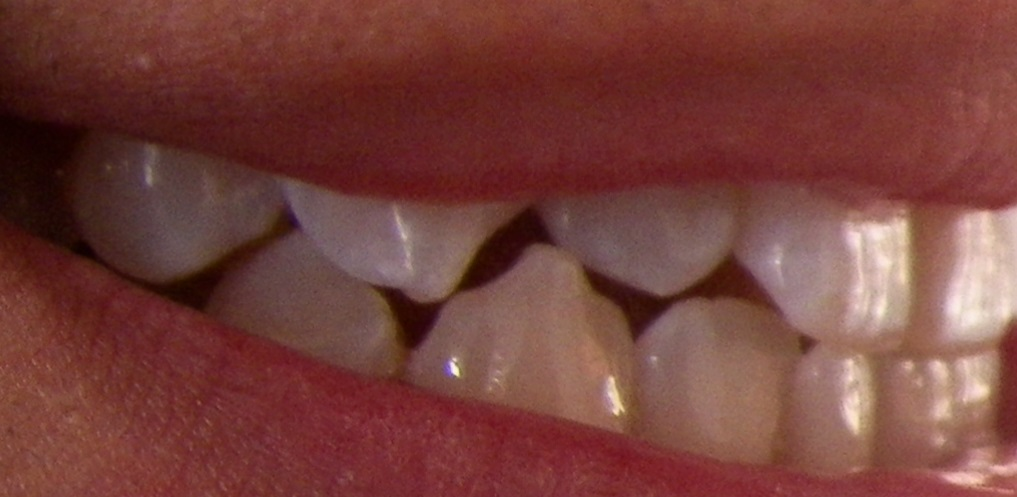boca: (78, 140, 1006, 471)
